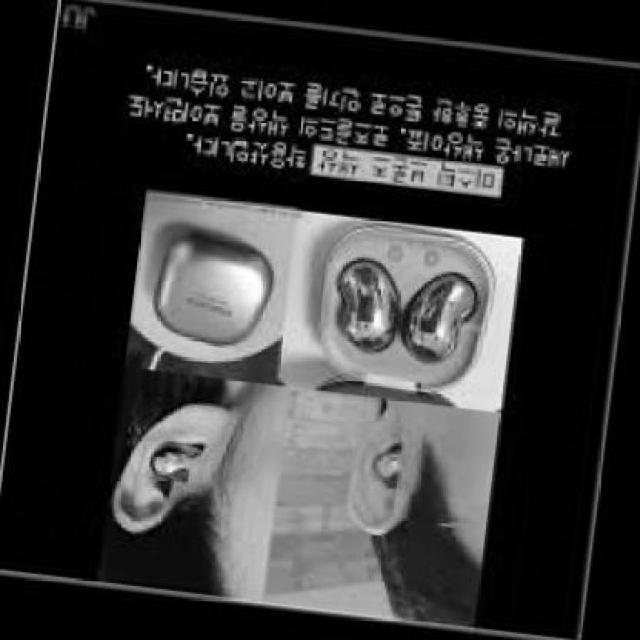earphone: (398, 268, 482, 359), (334, 252, 402, 349), (370, 434, 424, 503), (154, 437, 213, 492)
